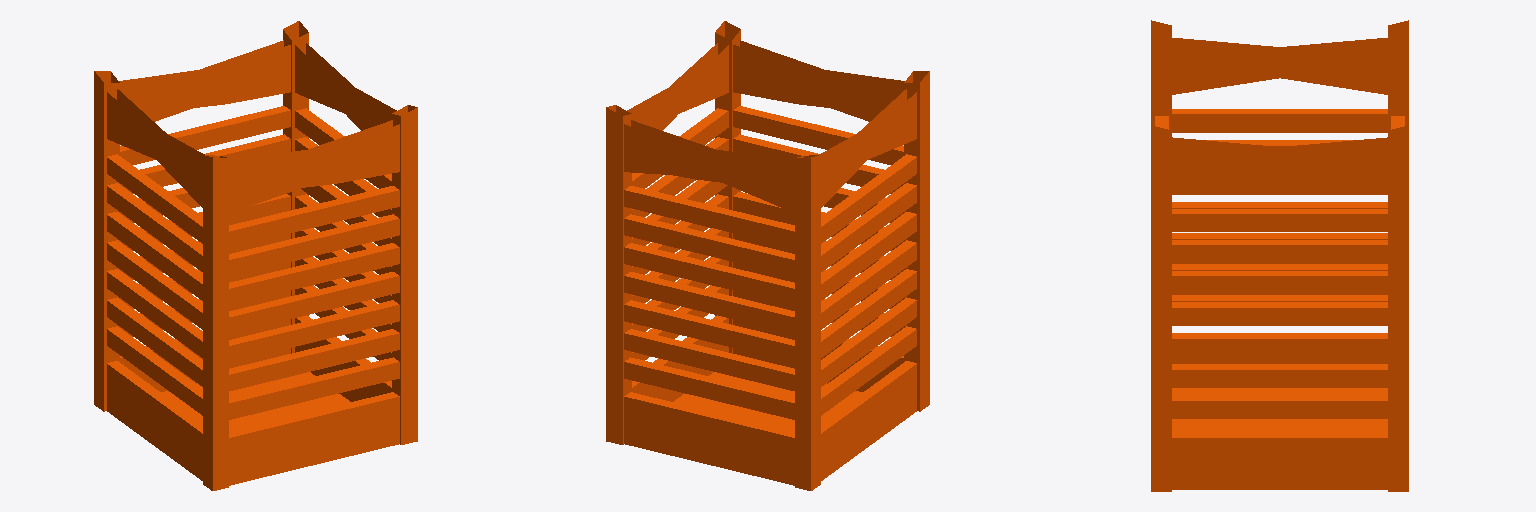
URDF robot description (Basket_3e64a7042776f19adc9938c9fceb2ffd):
<?xml version="1.0" ?>
<robot name="Basket_3e64a7042776f19adc9938c9fceb2ffd">
   <material name="obj_color">
      <color rgba="1.0 0.423529411765 0.0392156862745 1.0"/>
   </material>
   <link name="top">
      <inertial>
         <origin rpy="0.0001444224529097458 0.0002769716656613081 0.0002770889331939613" xyz="-0.0001821761474343068 5.078711534156316e-05 0.005125314913336521"/>
         <mass value="0.2820373454246313"/>
         <inertia ixx="0.0002770857758091439" ixy="-1.854525748878827e-08" ixz="5.851437389754602e-08" iyy="0.0002769697495454421" iyz="-8.179677446052233e-07" izz="0.0001444275264104295"/>
      </inertial>
      <visual>
         <origin rpy="0 0 0" xyz="0 0 0"/>
         <geometry>
            <mesh filename="top_watertight_tiny.stl" scale="1 1 1"/>
         </geometry>
         <material name="obj_color"/>
      </visual>
      <collision>
         <origin rpy="0 0 0" xyz="0 0 0"/>
         <geometry>
            <mesh filename="top_watertight_tiny.obj" scale="1 1 1"/>
         </geometry>
      </collision>
   </link>
   <link name="bottom">
      <inertial>
         <origin rpy="1.633333333331402e-08 1.633333333331402e-08 1.633333333331402e-08" xyz="0.08660200000000004 0.08660200000000004 0.08660200000000004"/>
         <mass value="0.0009800000000000026"/>
         <inertia ixx="1.633333333331402e-08" ixy="-0" ixz="-0" iyy="1.633333333331402e-08" iyz="-0" izz="1.633333333331402e-08"/>
      </inertial>
      <visual>
         <origin rpy="0 0 0" xyz="0 0 0"/>
         <geometry>
            <mesh filename="bottom_watertight_tiny.stl" scale="1 1 1"/>
         </geometry>
         <material name="obj_color"/>
      </visual>
   </link>
   <joint name="rotation" type="revolute">
      <origin xyz="0 0 0"/>
      <axis xyz="0 0 -1"/>
      <parent link="bottom"/>
      <child link="top"/>
      <dynamics damping="1.0" friction="1.0"/>
      <limit effort="0.1" velocity="0.1" lower="0" upper="0.001"/>
   </joint>
</robot>

--- What the picture shows (computed from the rendered views, not written in the file) ---
Views: 3 orthographic renders of the robot side by side, from view 1: azimuth 30°, elevation 25°; view 2: azimuth 150°, elevation 25°; view 3: azimuth 270°, elevation 25°.
Model Basket_3e64a7042776f19adc9938c9fceb2ffd with 2 links and 1 joints (1 revolute), rooted at bottom, posed all joints at 0.
Links seen in each view (by area): view 1: top; view 2: top; view 3: top.
Boxes of the visible links, x1,y1,x2,y2 form: top: (94,21,417,490); top: (606,21,929,490); top: (1151,20,1408,491).
Bounding box of the posed robot: 0.0555 × 0.0555 × 0.0863 m (x, y, z).
1 mesh visuals loaded from 2 distinct referenced files (1 binary STL); not drawn: 1 (reference not matched to a file when rendering).